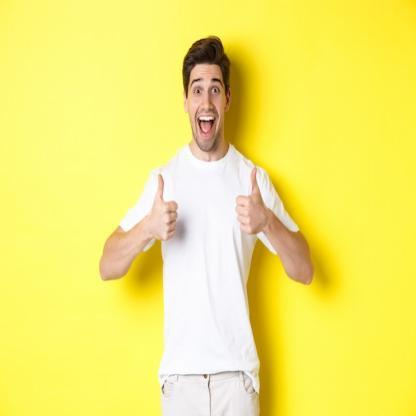thumb_up: (233, 165, 268, 239), (148, 171, 179, 243)
